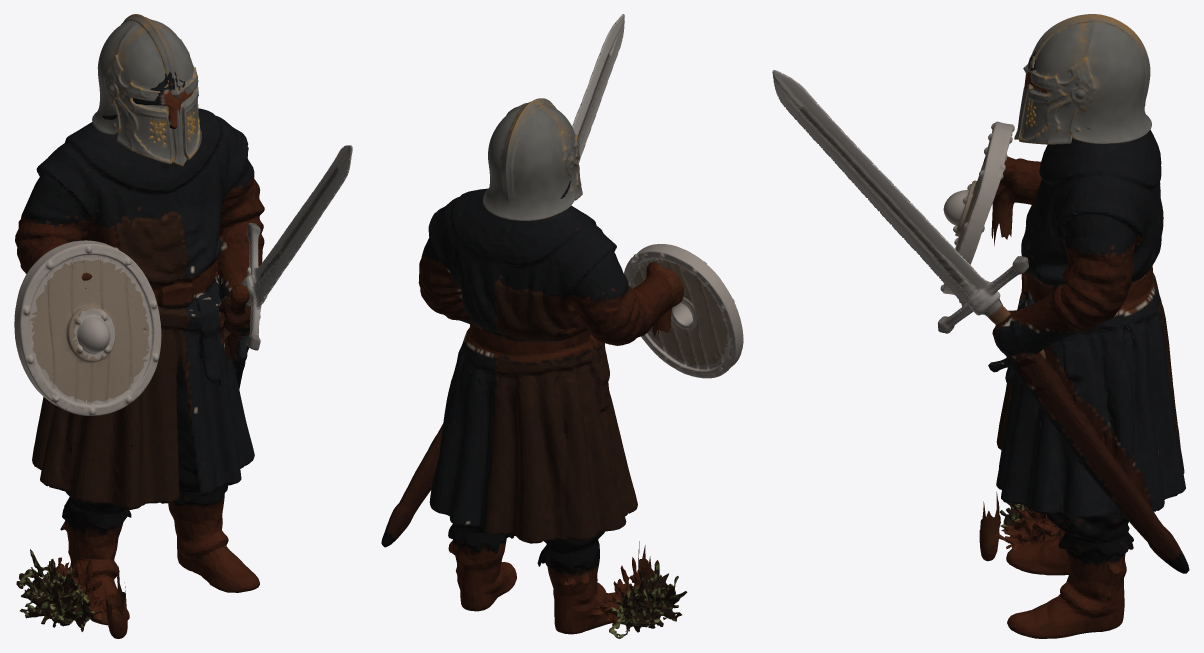
The model's file is assassino_da_serra.glb.
3 renders of one model, left to right at view 1: azimuth 30°, elevation 25°; view 2: azimuth 150°, elevation 25°; view 3: azimuth 270°, elevation 25°, orthographic. The views are drawn at different scales.
Parts seen in each view (by area): view 1: soldado, tmpltzsm_3i.ply, tmpl4f4wbxn.ply, tmprlh072mt.ply; view 2: soldado, tmpl4f4wbxn.ply, tmpltzsm_3i.ply, tmprlh072mt.ply; view 3: soldado, tmpl4f4wbxn.ply, tmprlh072mt.ply, tmpltzsm_3i.ply.
Part boxes in pixels (x1,y1,x2,y2): soldado: (15, 71, 264, 638); tmpltzsm_3i.ply: (14, 240, 161, 415); tmpl4f4wbxn.ply: (92, 14, 201, 166); tmprlh072mt.ply: (223, 145, 352, 350); soldado: (381, 181, 687, 638); tmpl4f4wbxn.ply: (483, 98, 582, 220); tmpltzsm_3i.ply: (624, 244, 743, 378); tmprlh072mt.ply: (572, 14, 624, 163); soldado: (979, 51, 1189, 638); tmpl4f4wbxn.ply: (1014, 14, 1151, 144); tmprlh072mt.ply: (772, 70, 1045, 359); tmpltzsm_3i.ply: (940, 121, 1014, 294).
Size of the model in its own units: 1.09 by 1.98 by 1.28.
Materials: 5 (1 with a texture image).
